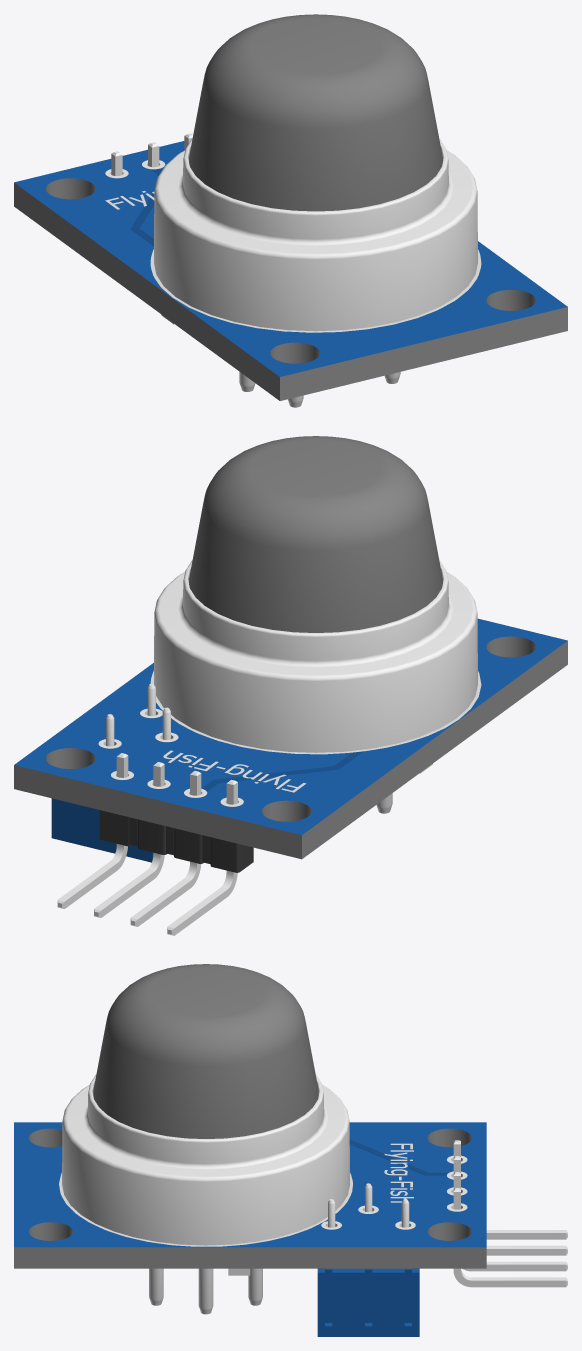
The model's file is Gas Sensor.fbx.
3 views of the same model, one above another, from view 1: azimuth 30°, elevation 25°; view 2: azimuth 150°, elevation 25°; view 3: azimuth 270°, elevation 25° (orthographic). The views are drawn at different scales.
Visible parts, largest first — view 1: MQ2, MQ2.002; view 2: MQ2, MQ2.002; view 3: MQ2, MQ2.002.
Part boxes in pixels (<box>): MQ2: <box>14,133,567,407</box>; MQ2.002: <box>189,14,442,211</box>; MQ2: <box>14,560,567,935</box>; MQ2.002: <box>189,436,442,632</box>; MQ2: <box>14,1074,567,1336</box>; MQ2.002: <box>93,964,318,1138</box>.
Bounding box in the file's own units: 21.55 × 23.35 × 40.4.
